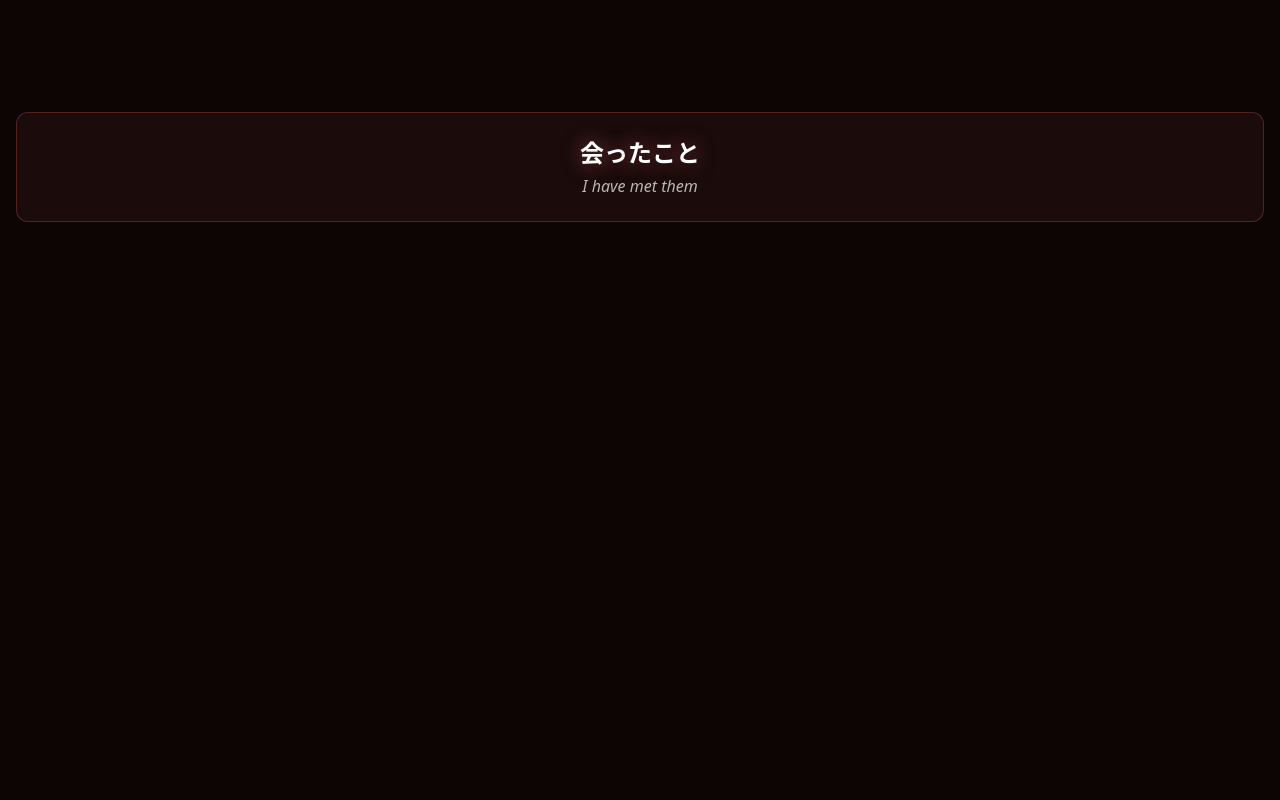
Test case: grammar hints › is quiet on a line with no detected pattern
Click the button with aria-label "look up こと": {"x": 676, "y": 152} x1=652 y1=134 x2=700 y2=169
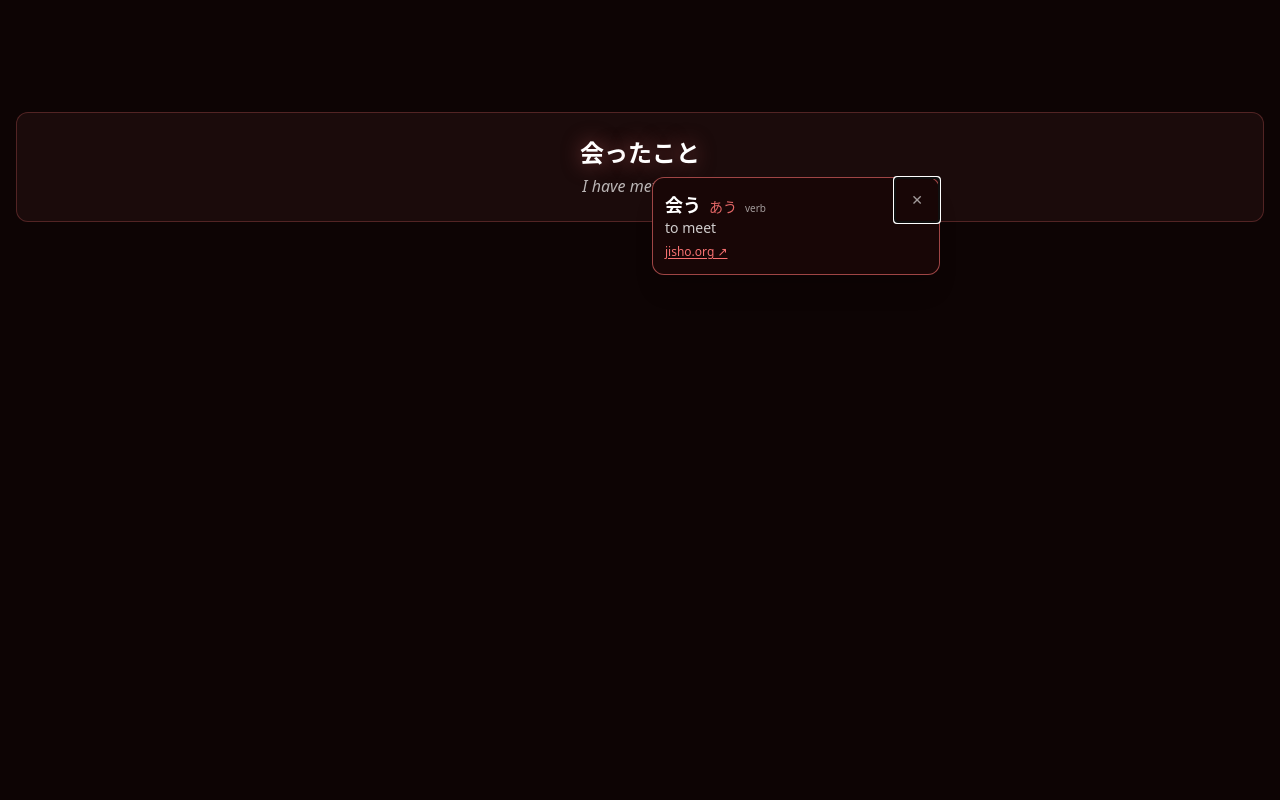
Expected: the dialog named "dictionary entry" is shown, x1=652 y1=177 x2=940 y2=275
